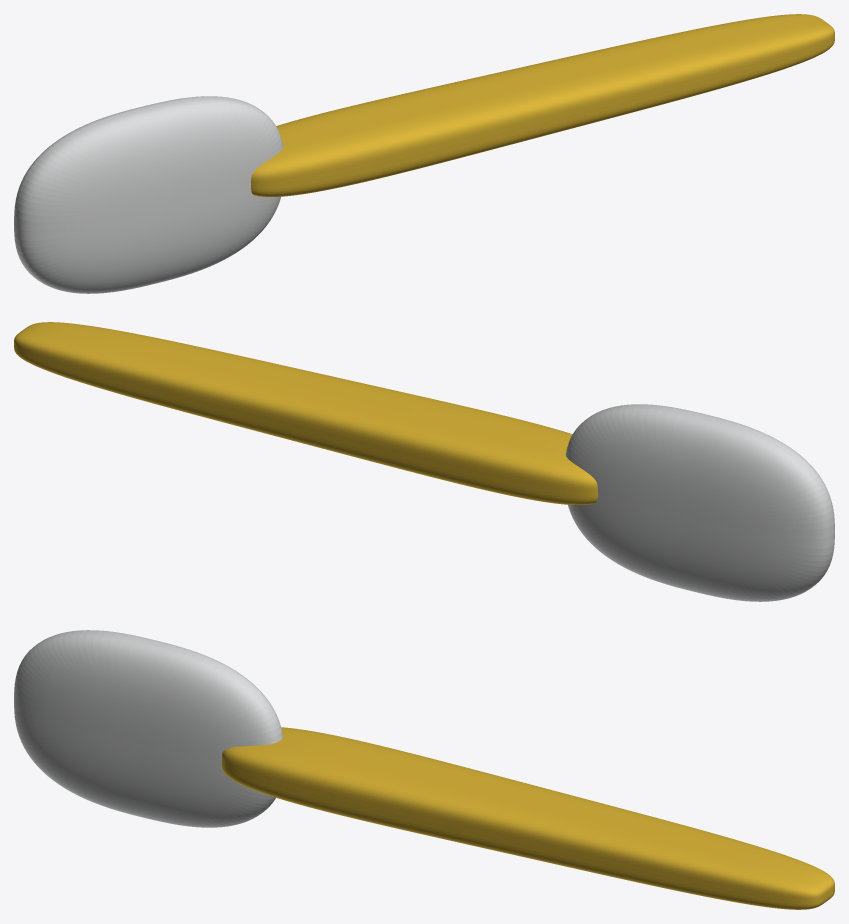
Rendered from silver_spoon_sq.glb.
3 renders of one model, top to bottom at view 1: azimuth 30°, elevation 25°; view 2: azimuth 150°, elevation 25°; view 3: azimuth 330°, elevation 25°, orthographic.
Visible parts, largest first — view 1: superquadric_1, superquadric_0; view 2: superquadric_1, superquadric_0; view 3: superquadric_0, superquadric_1.
Part boxes in pixels (x1=…): superquadric_1: x1=14, y1=96, x2=283, y2=293; superquadric_0: x1=251, y1=14, x2=834, y2=197; superquadric_1: x1=565, y1=404, x2=834, y2=601; superquadric_0: x1=14, y1=322, x2=597, y2=505; superquadric_0: x1=222, y1=727, x2=834, y2=909; superquadric_1: x1=14, y1=630, x2=283, y2=827.
Bounding box in the file's own units: 1 × 0.204 × 0.1091.
